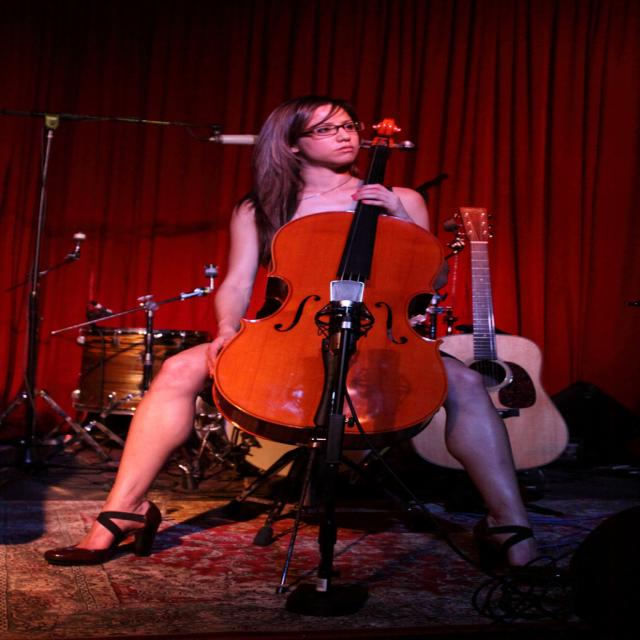cello: (213, 120, 451, 450)
guitar: (412, 207, 577, 478)
